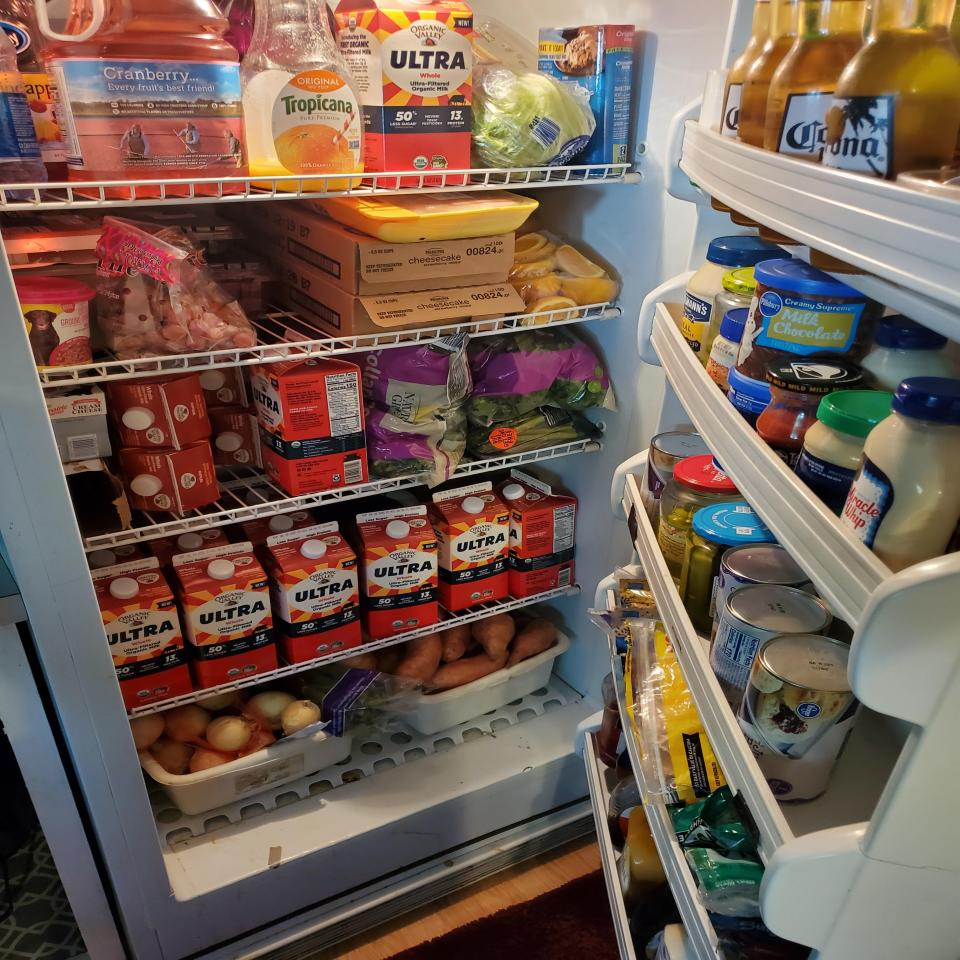Leche: (335, 0, 475, 189), (250, 330, 370, 497), (89, 556, 191, 712), (172, 540, 278, 690), (266, 520, 360, 666), (357, 503, 440, 640), (432, 480, 510, 610), (504, 468, 576, 599)
Lechuga/Endivia: (475, 69, 596, 168)
Limón: (558, 242, 605, 279), (526, 297, 582, 324), (563, 278, 620, 304)
